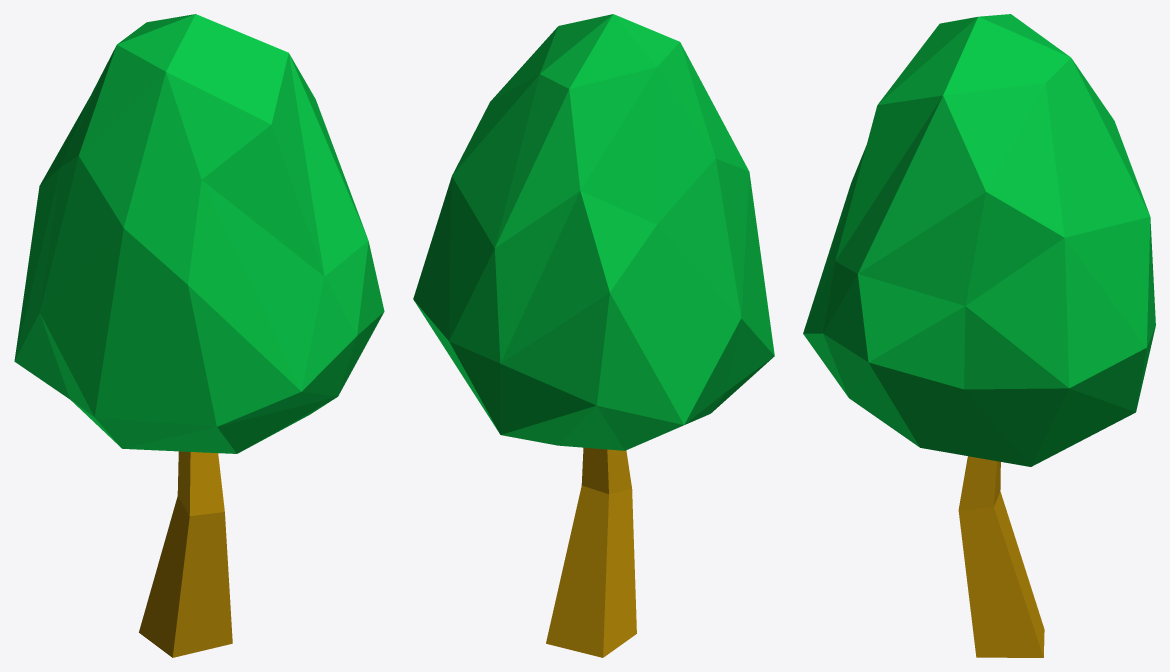
The model's file is stm_env_tree2.fbx.
3 views of the same model, side by side, from view 1: azimuth 30°, elevation 25°; view 2: azimuth 150°, elevation 25°; view 3: azimuth 270°, elevation 25° (orthographic). The views are drawn at different scales.
Visible parts, largest first — view 1: Tree; view 2: Tree; view 3: Tree.
Boxes of the visible parts, box(x1,y1,x2,y2) form: Tree: box(14, 14, 384, 657); Tree: box(413, 14, 774, 657); Tree: box(803, 14, 1155, 657).
Size of the model in its own units: 511 by 1020 by 523.
